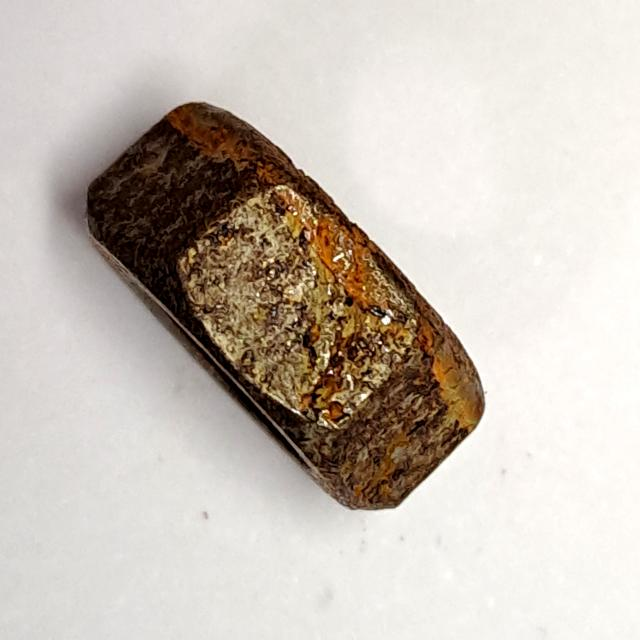Side_Rust: (72, 91, 497, 525)
